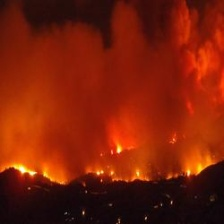fire: (15, 140, 209, 187)
smoke: (33, 26, 221, 120)
